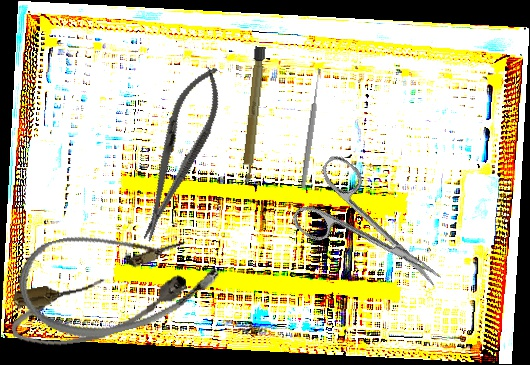Cannula: (10, 201, 227, 355), (6, 264, 193, 353)
Iris Scissors: (283, 151, 462, 317)
Needle Holder: (124, 58, 234, 249)
Scalpel Handle: (240, 46, 266, 185)
Surgical Spoon: (299, 68, 324, 189)
